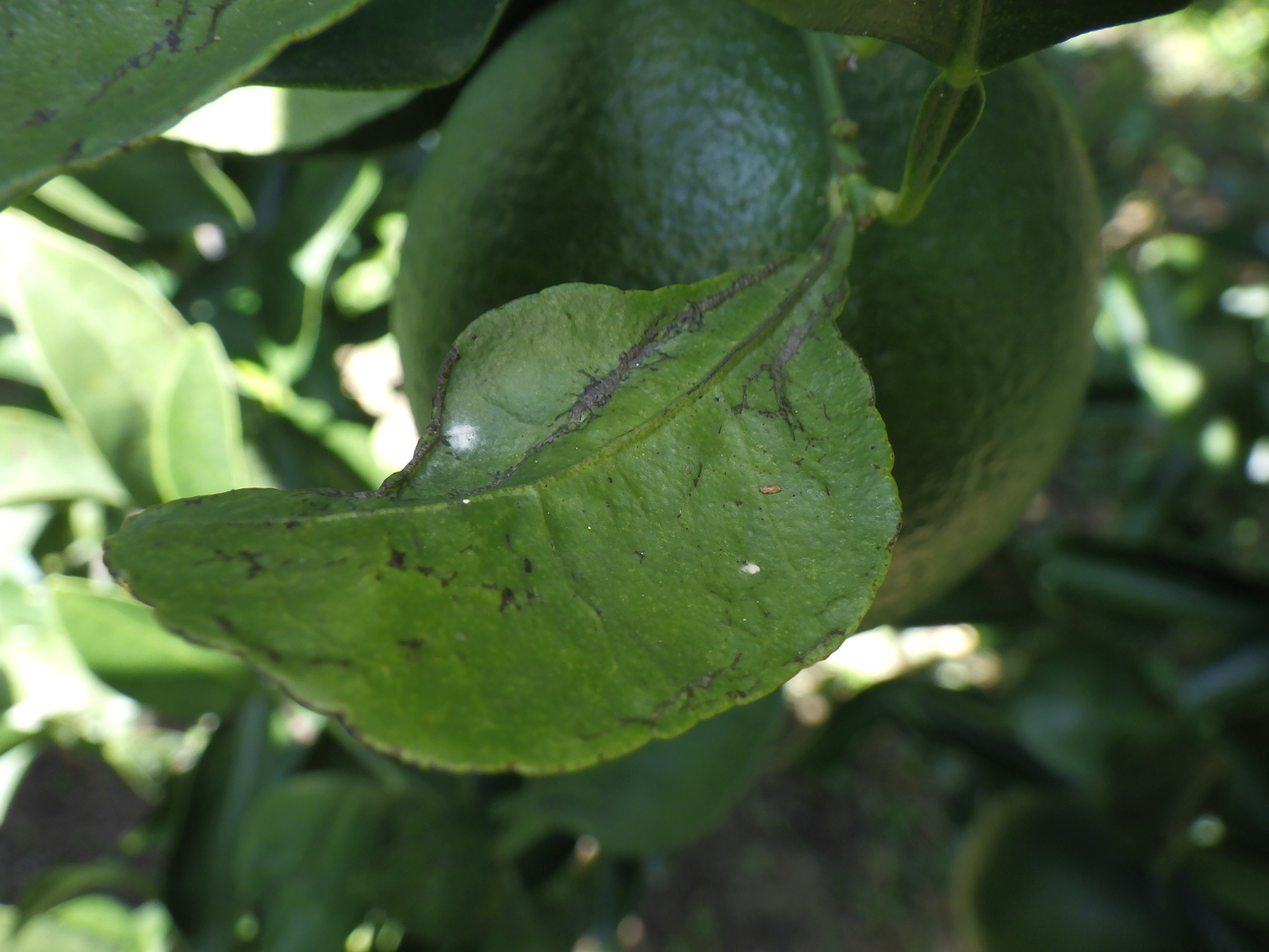Thrips_Damage: (398, 219, 846, 482)
